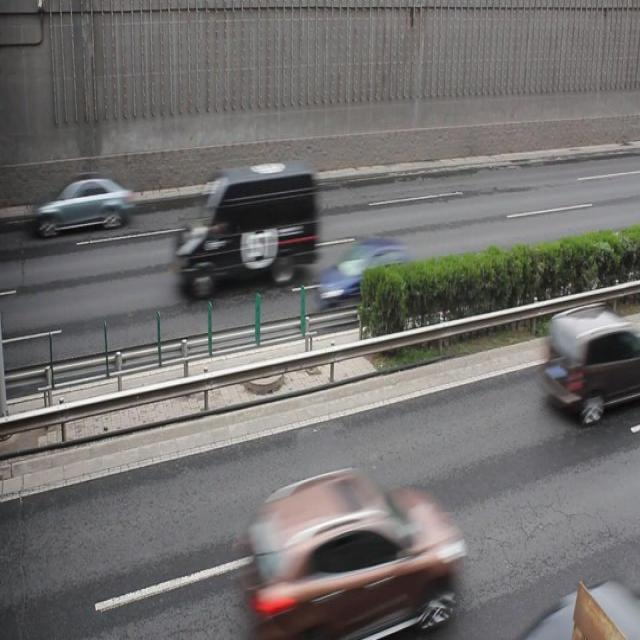car: (240, 463, 462, 640), (544, 305, 632, 416), (316, 233, 407, 319), (32, 172, 134, 236)
truck: (176, 160, 318, 294)
